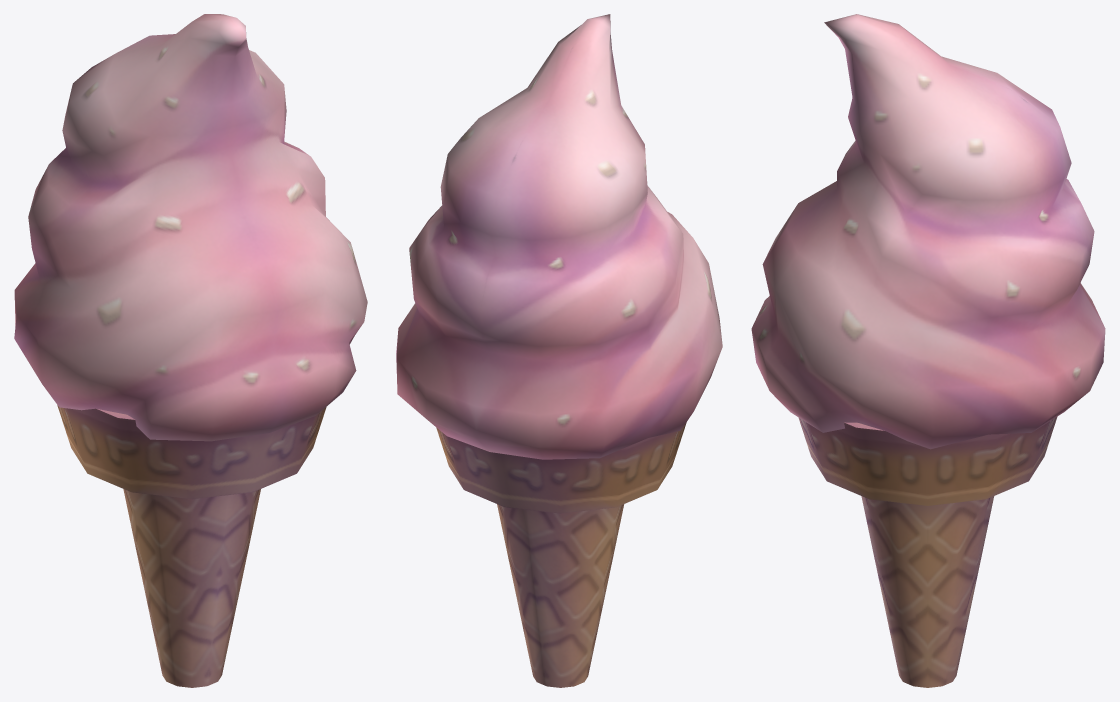
Rendered from scenes_candy_icecream02.FBX.
3 views of the same model, side by side, from view 1: azimuth 30°, elevation 25°; view 2: azimuth 150°, elevation 25°; view 3: azimuth 270°, elevation 25° (orthographic). The views are drawn at different scales.
Parts seen in each view (by area): view 1: scenes_candy_icecream02; view 2: scenes_candy_icecream02; view 3: scenes_candy_icecream02.
Boxes of the visible parts, x1,y1,x2,y2 form: scenes_candy_icecream02: (14,14,367,687); scenes_candy_icecream02: (396,14,722,687); scenes_candy_icecream02: (751,14,1105,687).
Size of the model in its own units: 199 by 429 by 208.
